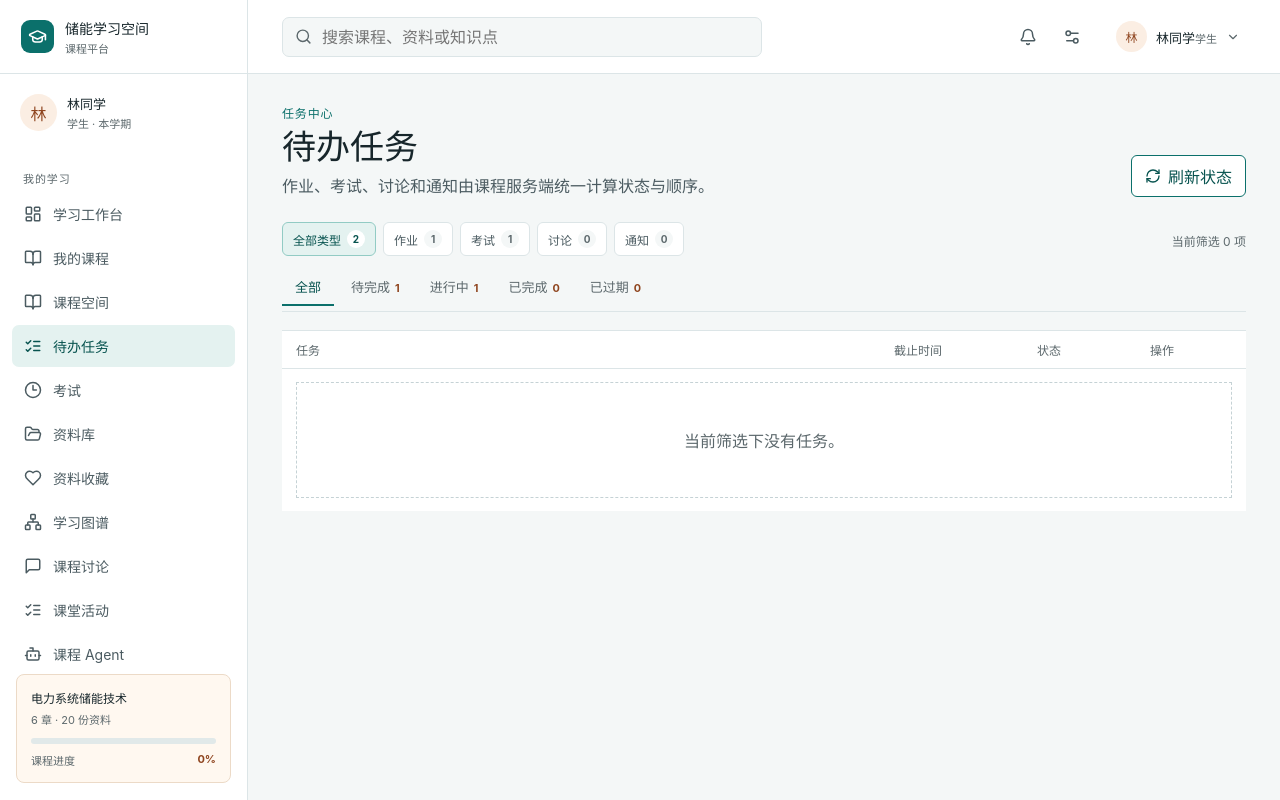
Test: learning platform component › component task center ignores a stale response after a faster filter wins
The width and height of the screenshot is (1280, 800).
Expected: the text "当前筛选下没有任务。" is shown, [296, 382, 1232, 498]
Click the button "作业 1".
click(418, 239)  # box [383, 222, 453, 256]
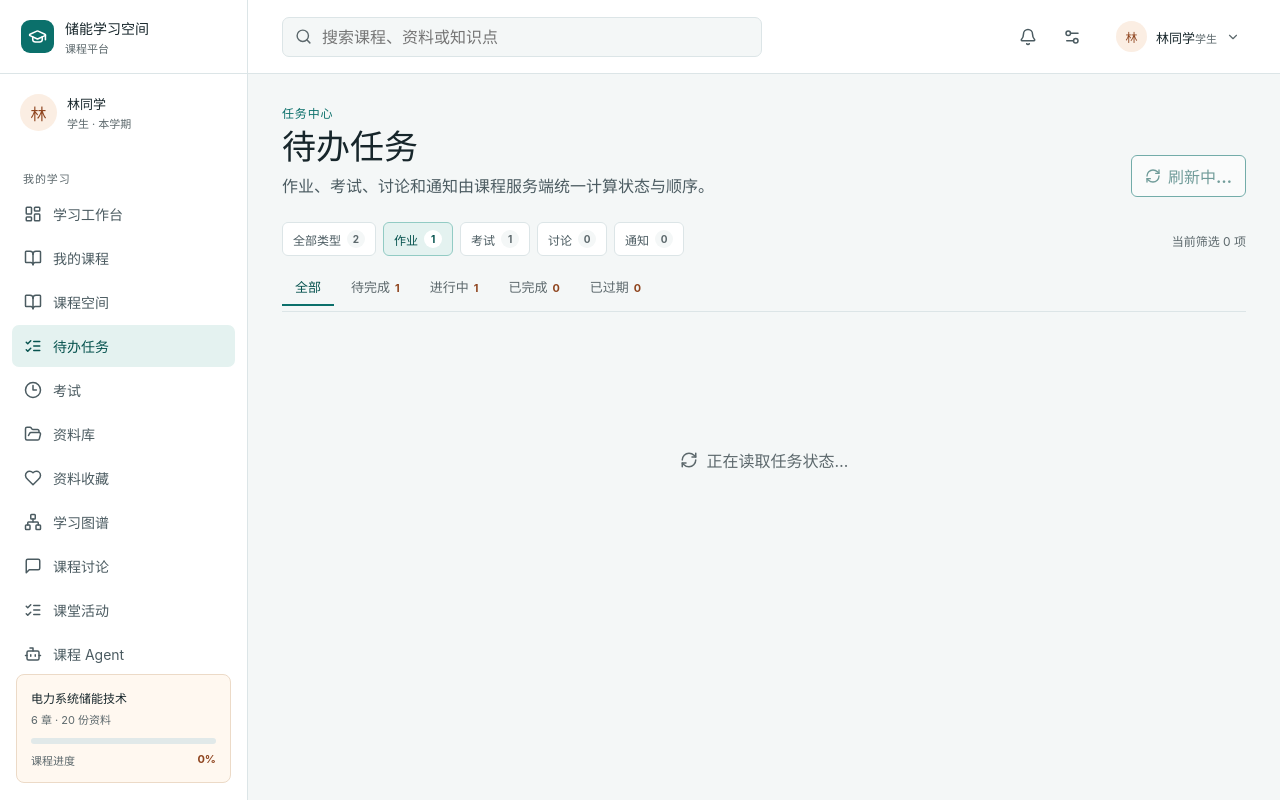
Click the button "考试 1".
click(495, 239)  # box [460, 222, 530, 256]
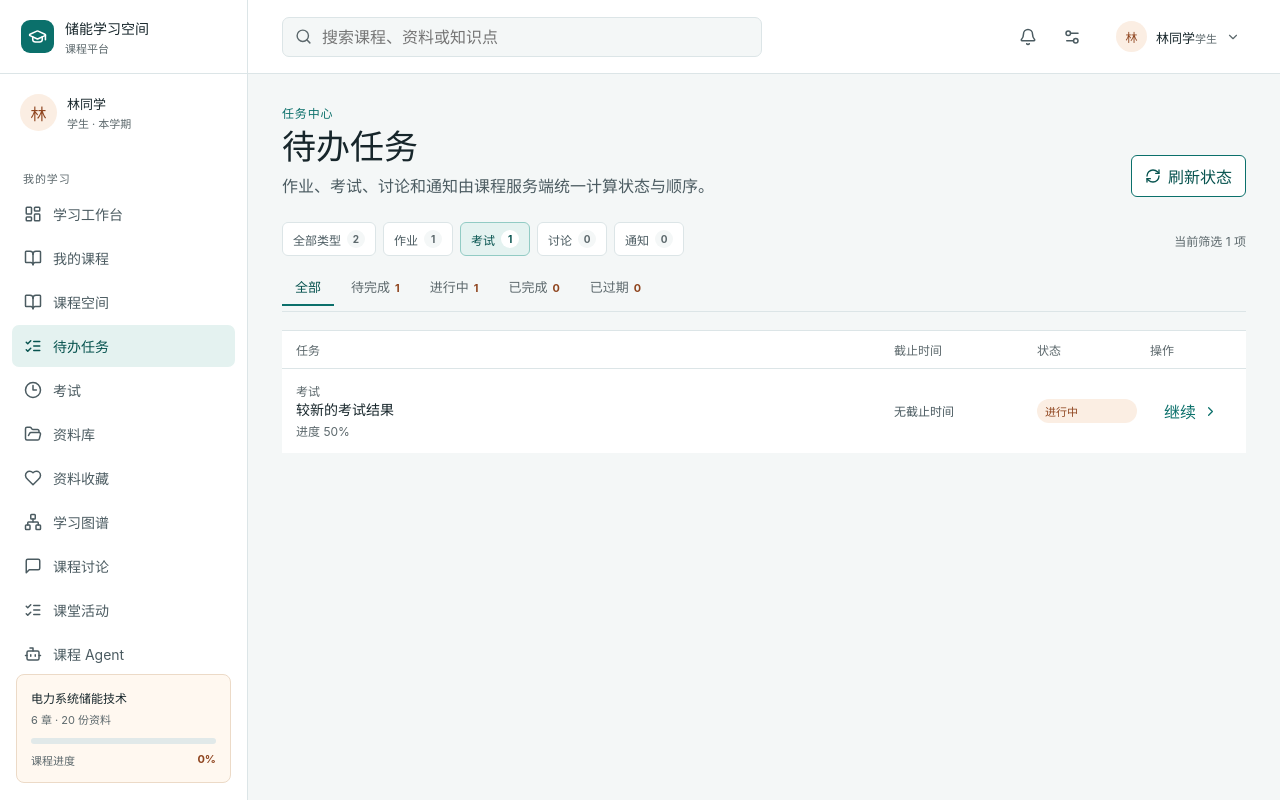
Expected: the text "较新的考试结果" is shown, [296, 401, 394, 418]
